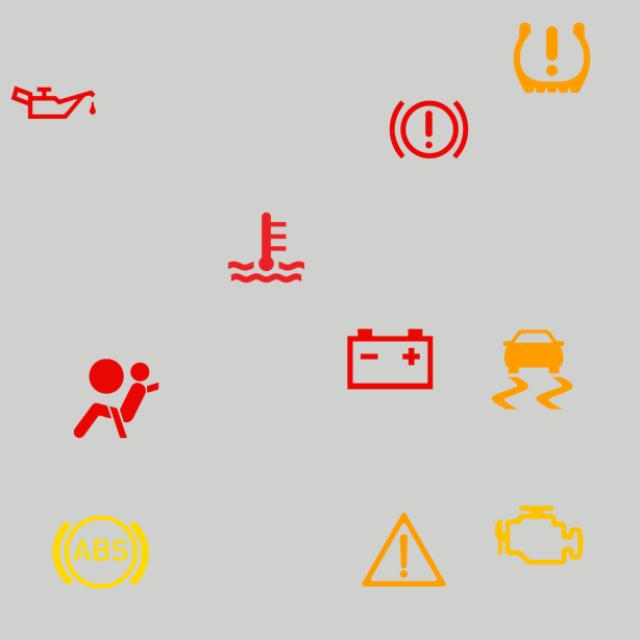Anti Lock Braking System: (48, 499, 153, 605)
Braking System Issue: (376, 77, 482, 183)
Charging System Issue: (338, 306, 443, 412)
Check Engine: (487, 482, 592, 588)
Electronic Stability Problem -ESP-: (479, 317, 585, 422)
Engine Overheating Warning Light: (214, 195, 319, 300)
Low Engine Oil Warning Light: (1, 50, 106, 155)
Low Tire Pressure Warning Light: (499, 5, 605, 111)
Master warning light: (351, 497, 457, 603)
SRS-Airbag: (63, 346, 169, 451)
